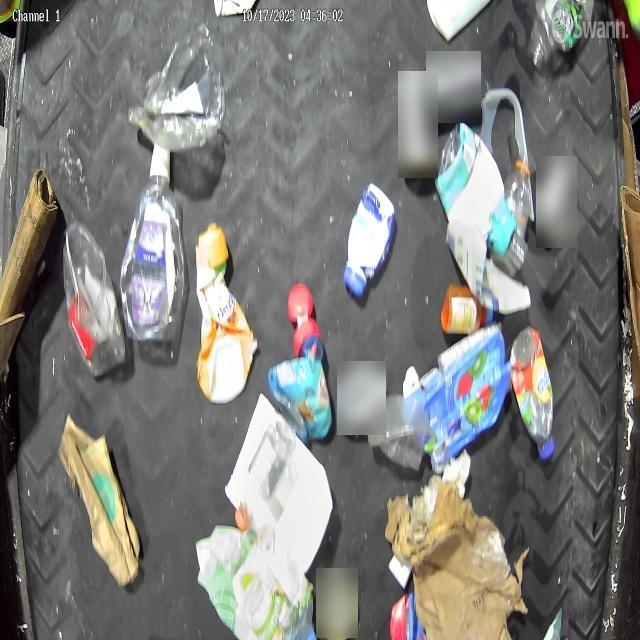non_white_jug: (196, 222, 254, 405)
plastic_bottle: (122, 145, 185, 338), (508, 323, 555, 464)
